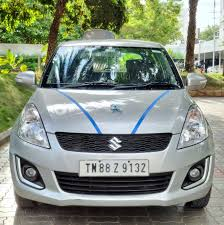Swift: (10, 36, 217, 214)
